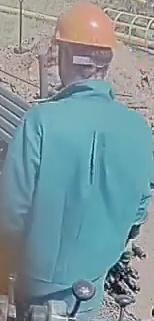helmet: (54, 2, 117, 49)
vest: (21, 80, 152, 289)
